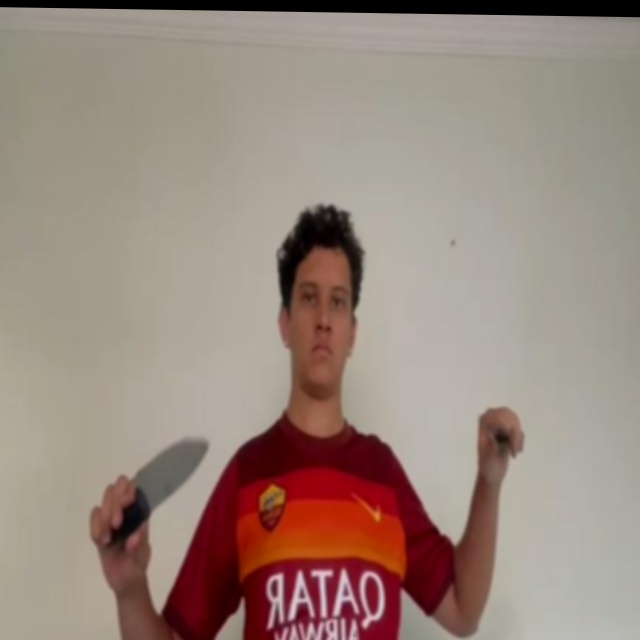Sharp-Object: (132, 436, 207, 501)
